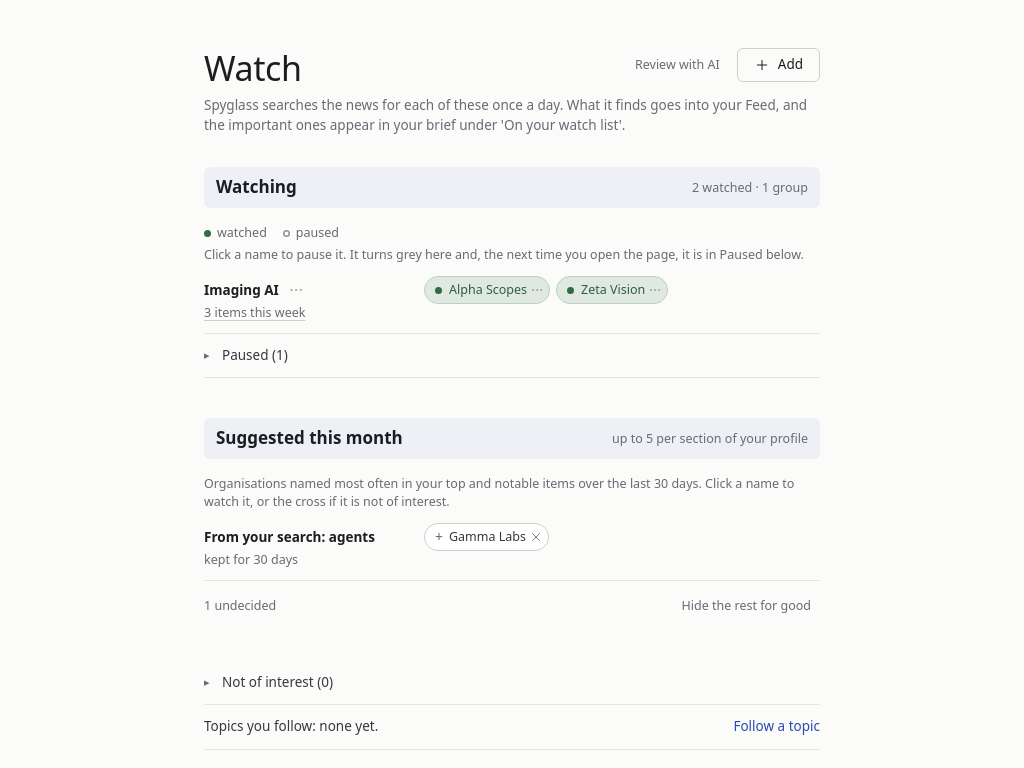
Scenario: WatchPage layout › is one line with "Follow a topic" at the end when no topic is followed, which opens that step of the Add dialog
Click the button "Follow a topic" at (777, 727), box [733,717,820,737]
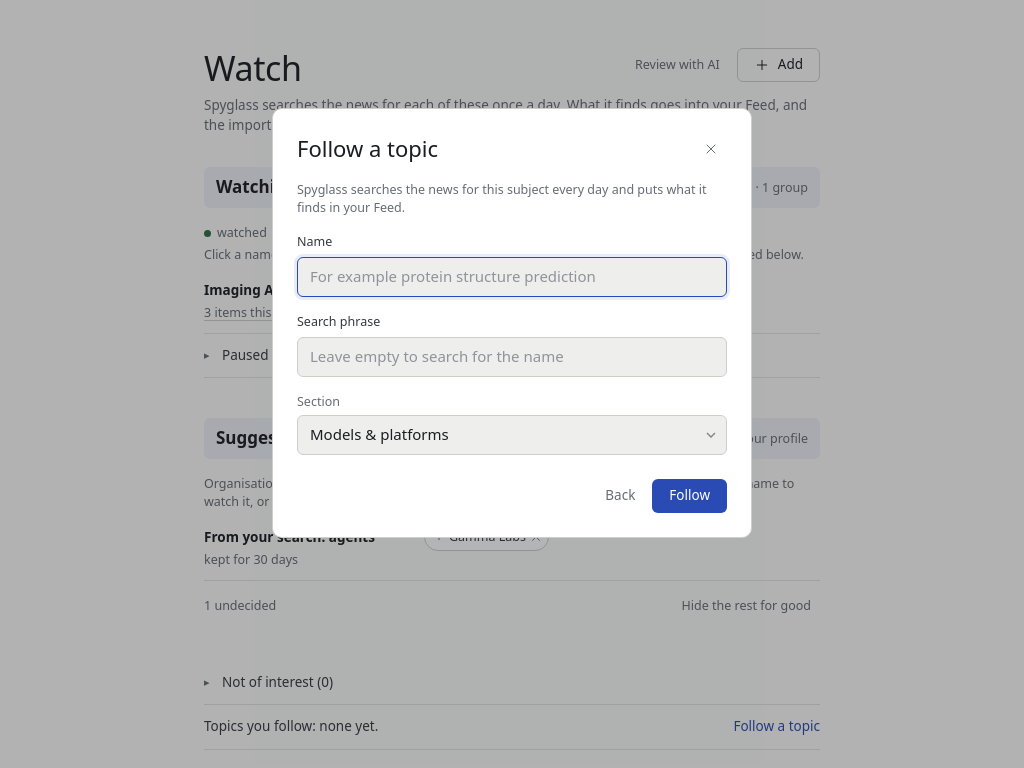
Now the field labelled "Search phrase" is shown, box [297,337,727,377]
